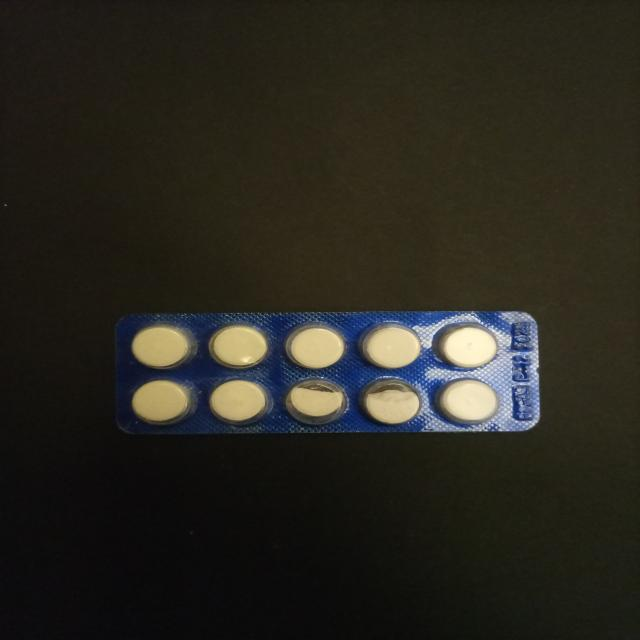defect: (356, 373, 424, 427), (282, 376, 350, 428)
